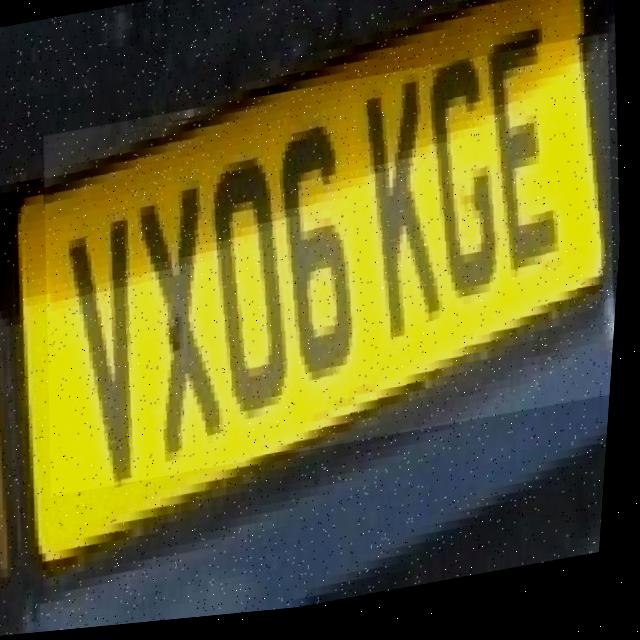LicensePlate: (26, 44, 635, 500)
